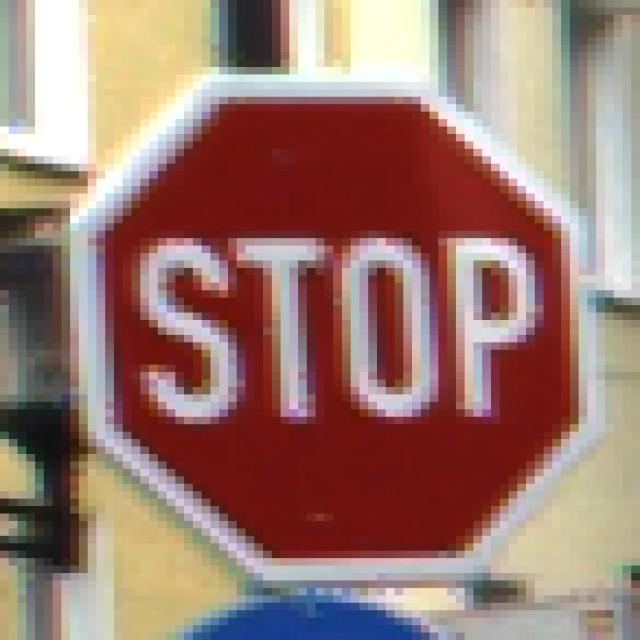STOP: (63, 53, 589, 589)
